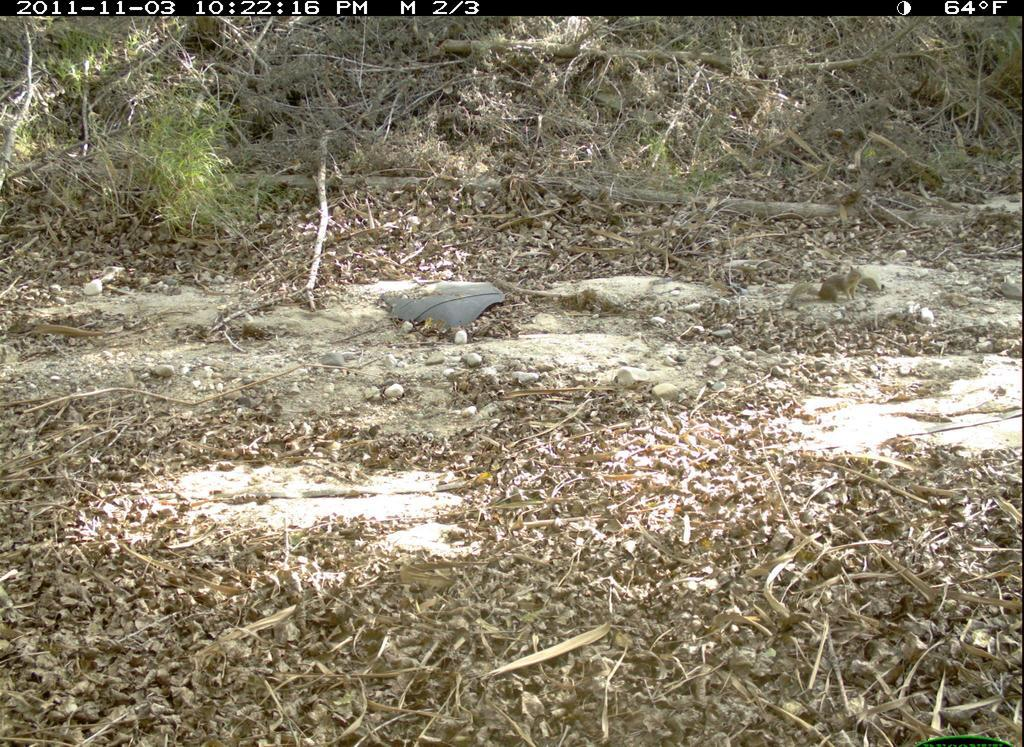squirrel: (773, 257, 872, 315)
